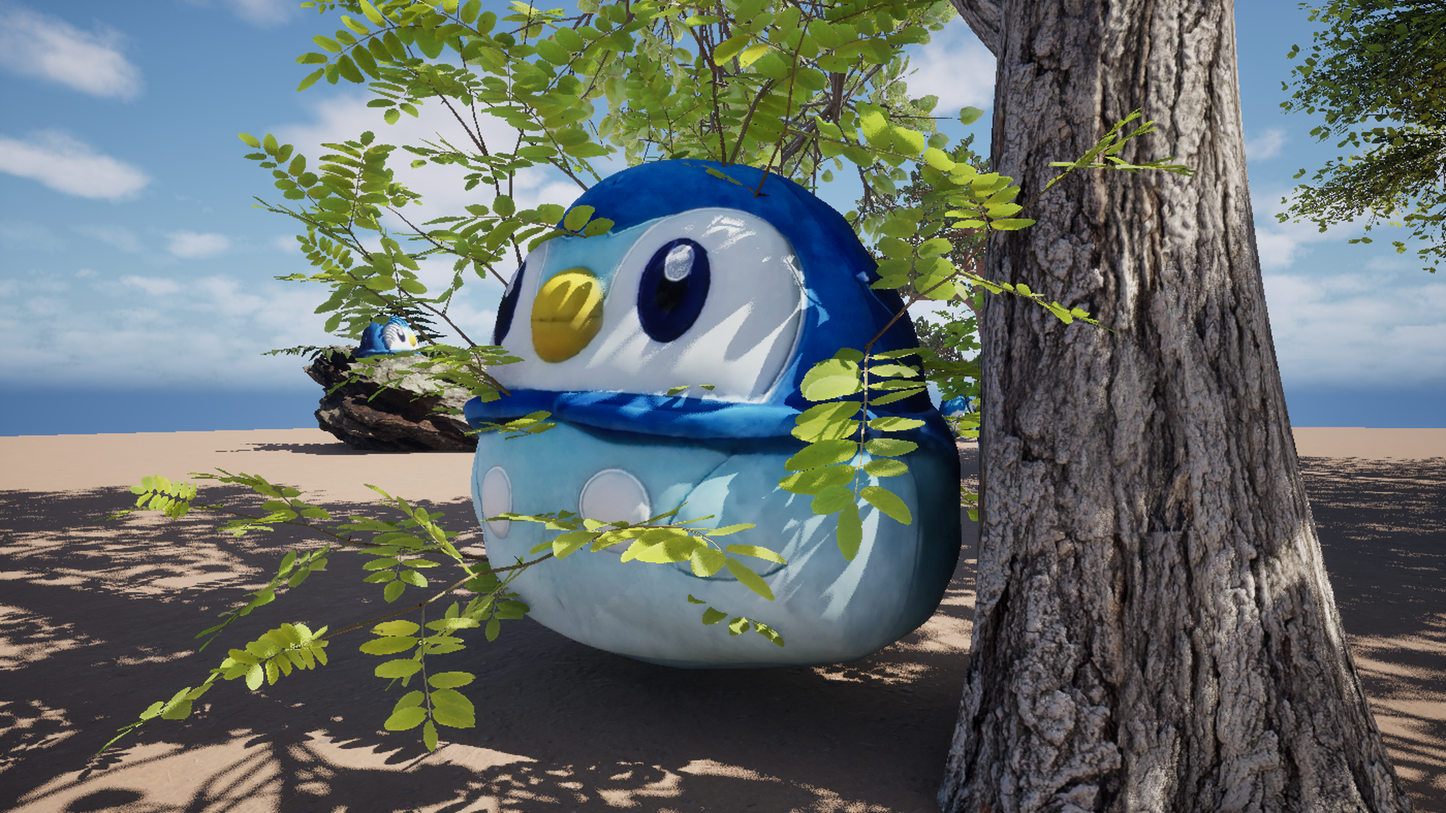Piplup: (312, 0, 1052, 813)
